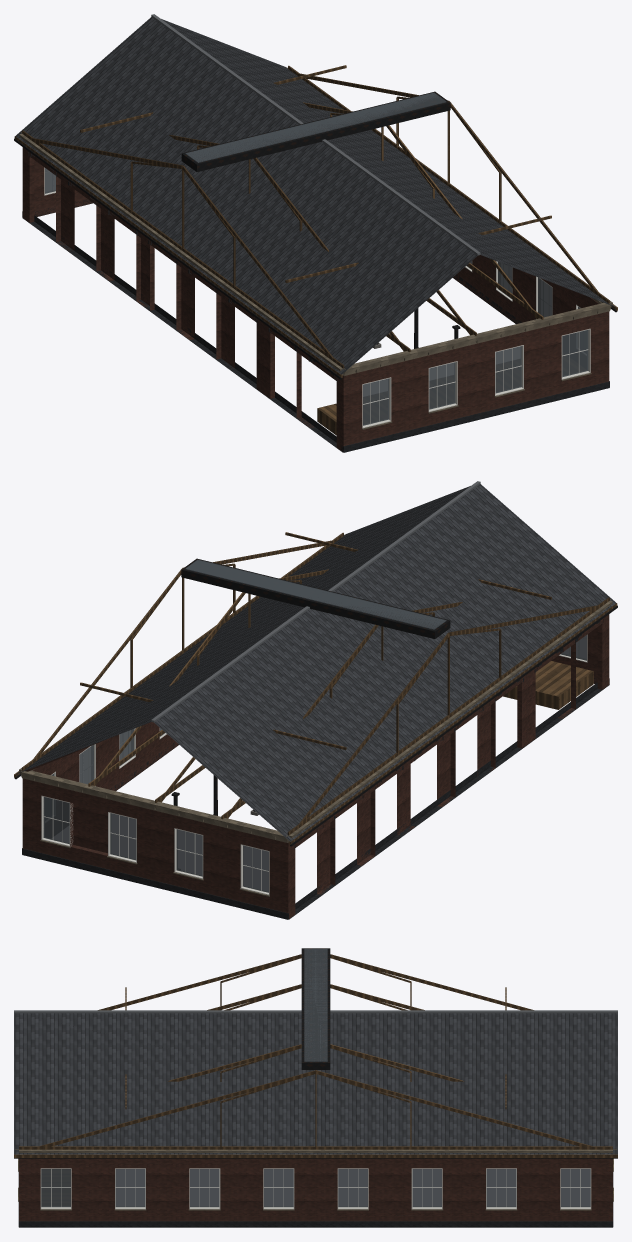
Rendered from B_fitting_shed.glb.
3 views of the same model, one above another, from view 1: azimuth 30°, elevation 25°; view 2: azimuth 150°, elevation 25°; view 3: azimuth 270°, elevation 25° (orthographic). The views are drawn at different scales.
Parts seen in each view (by area): view 1: B_fitting_shed; view 2: B_fitting_shed; view 3: B_fitting_shed.
Boxes of the visible parts, x1,y1,x2,y2 form: B_fitting_shed: (14,14,617,452); B_fitting_shed: (14,481,617,919); B_fitting_shed: (14,948,617,1227).
Bounding box in the file's own units: 22.99 × 13.87 × 46.8.
12 materials, 8 textured.
